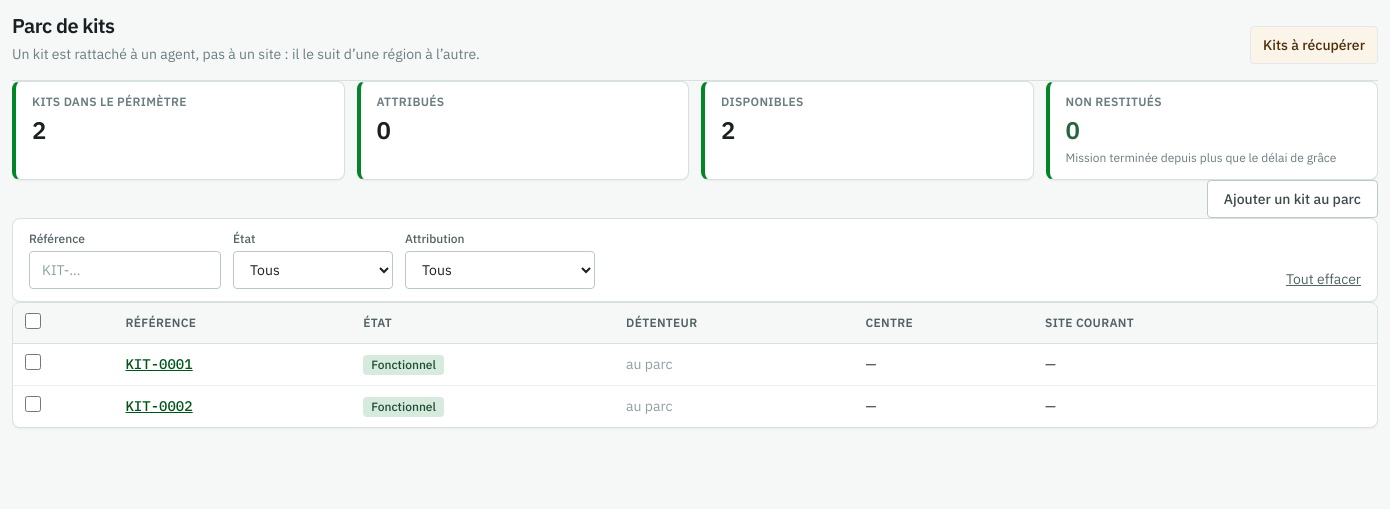
Scenario: supprimer des lignes cochées › coche puis décoche toute la page avec la même case
Click the checkbox named "Cocher toute la page" at coordinates (33, 320), box [25,312,41,328]
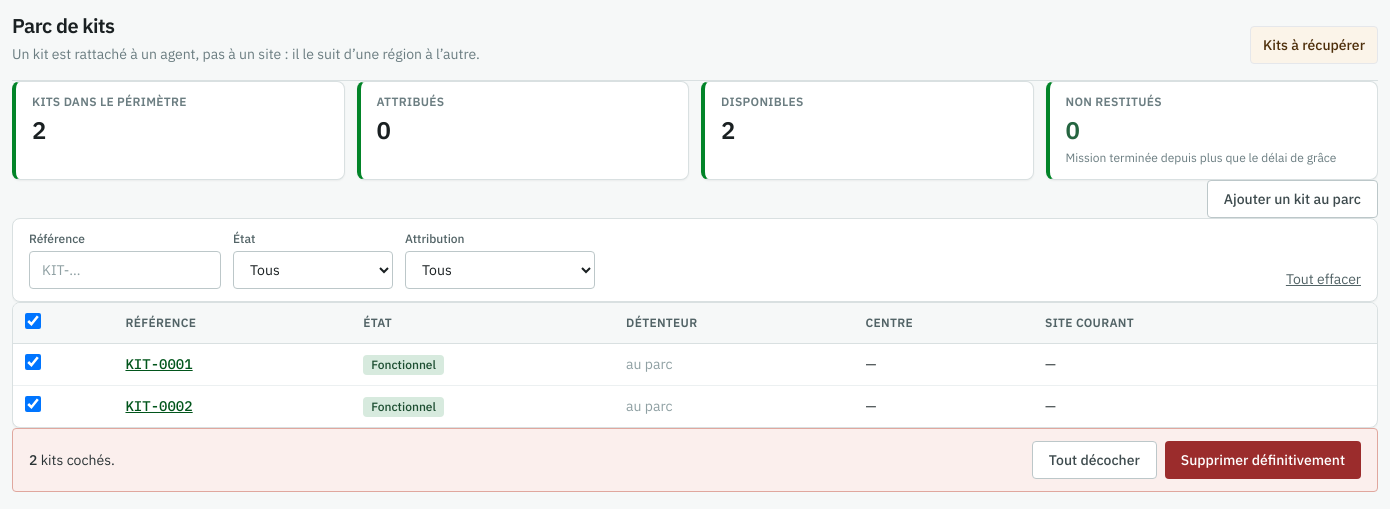
Check: the text "2" in the row of "coché" is shown, box [29,450,37,468]
Check: the button "Supprimer définitivement" is shown, box [1165,440,1361,478]
Click the checkbox named "Cocher toute la page" at coordinates (33, 320), box [25,312,41,328]
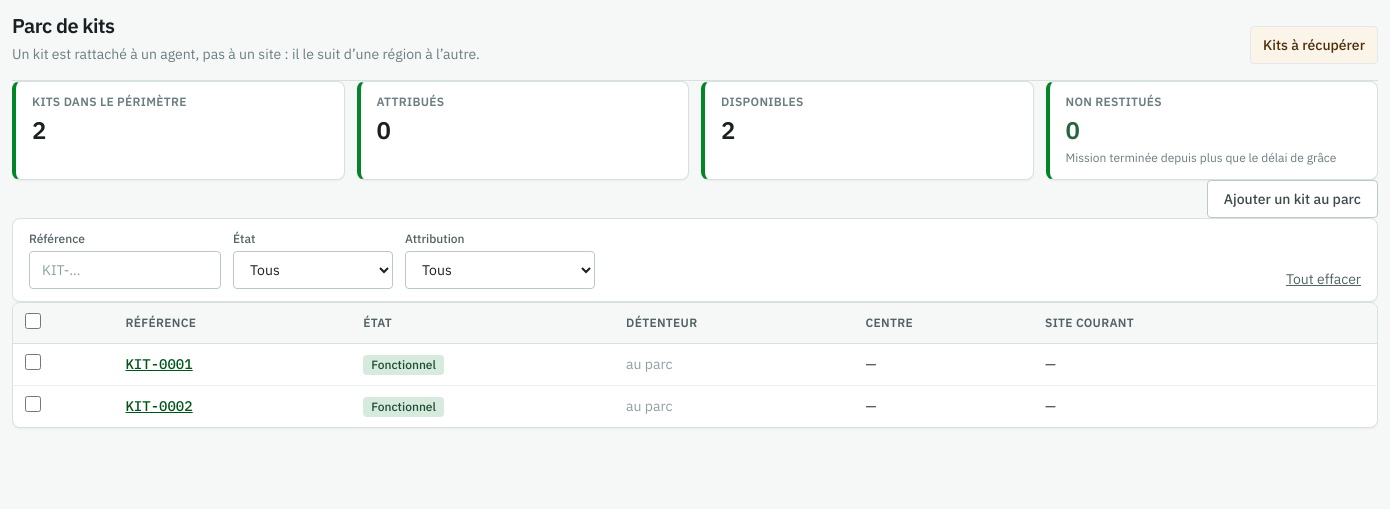
Check: the button "Supprimer définitivement" is gone
